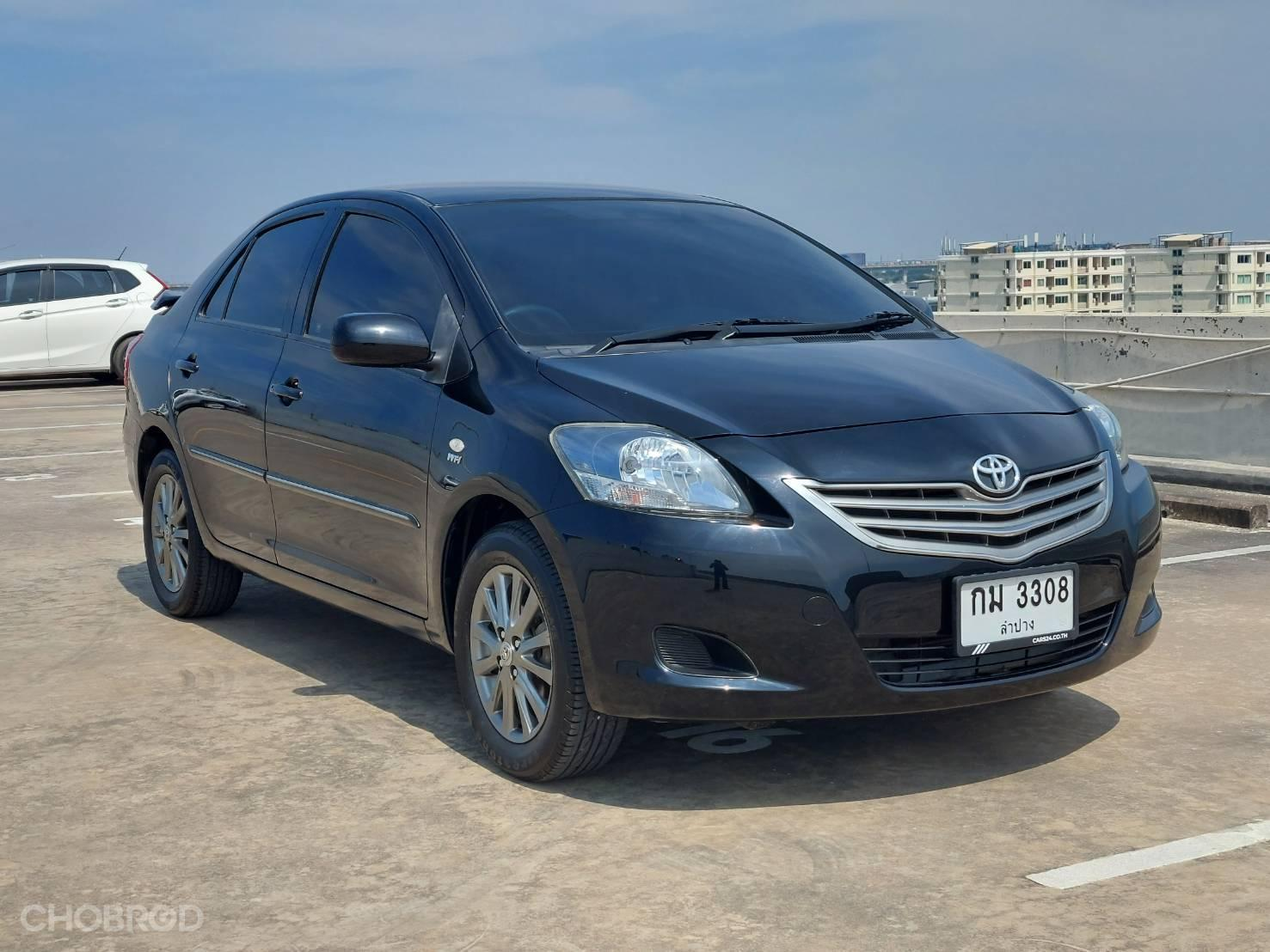license-plate: (954, 561, 1087, 659)
